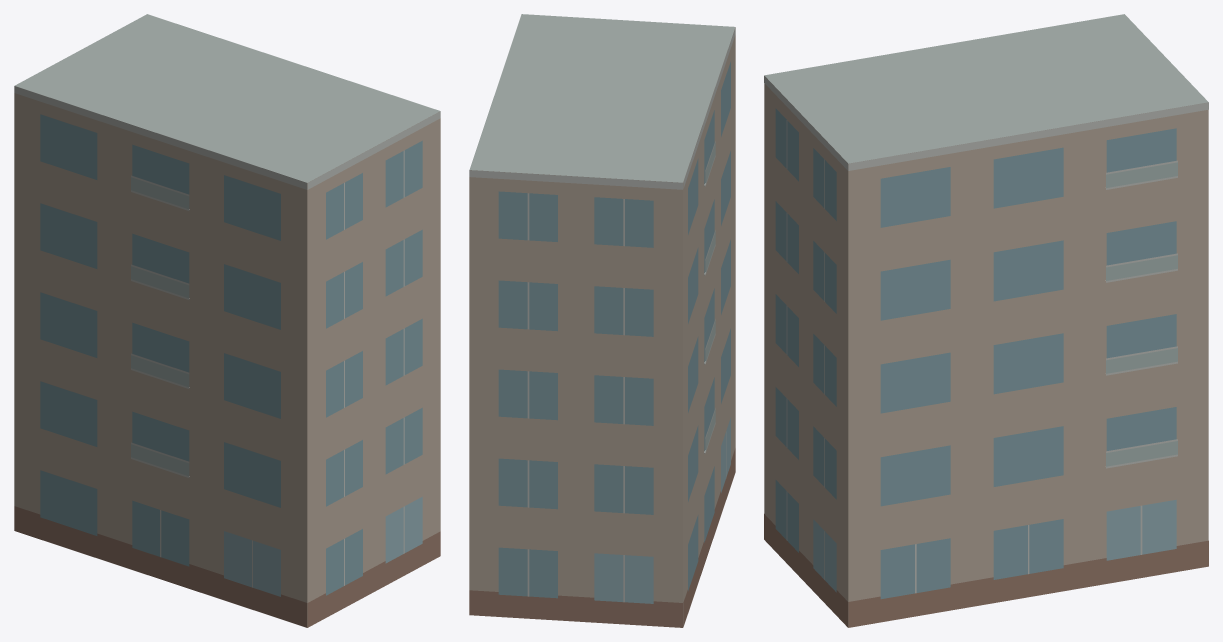
The model's file is residential-0ad30183-137c-426e-9537-62c85f49db46.glb.
The picture shows the model from 3 angles, left to right: view 1: azimuth 30°, elevation 25°; view 2: azimuth 150°, elevation 25°; view 3: azimuth 270°, elevation 25°; orthographic projection. The views are drawn at different scales.
Visible parts, largest first — view 1: residential-0ad30183-137c-426e-9537-62c85f49db46.tmp; view 2: residential-0ad30183-137c-426e-9537-62c85f49db46.tmp; view 3: residential-0ad30183-137c-426e-9537-62c85f49db46.tmp.
Boxes of the visible parts, x1,y1,x2,y2 form: residential-0ad30183-137c-426e-9537-62c85f49db46.tmp: (14, 14, 440, 627); residential-0ad30183-137c-426e-9537-62c85f49db46.tmp: (469, 14, 735, 627); residential-0ad30183-137c-426e-9537-62c85f49db46.tmp: (764, 14, 1208, 627).
Bounding box in the file's own units: 10.55 × 15.25 × 13.25.
